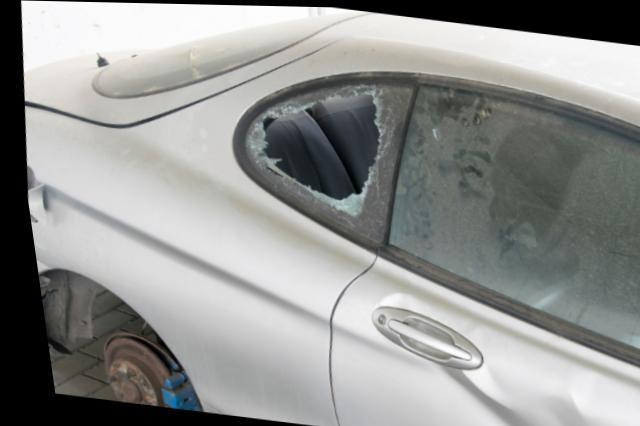dent: (421, 360, 595, 426)
glass shatter: (241, 82, 411, 242)
